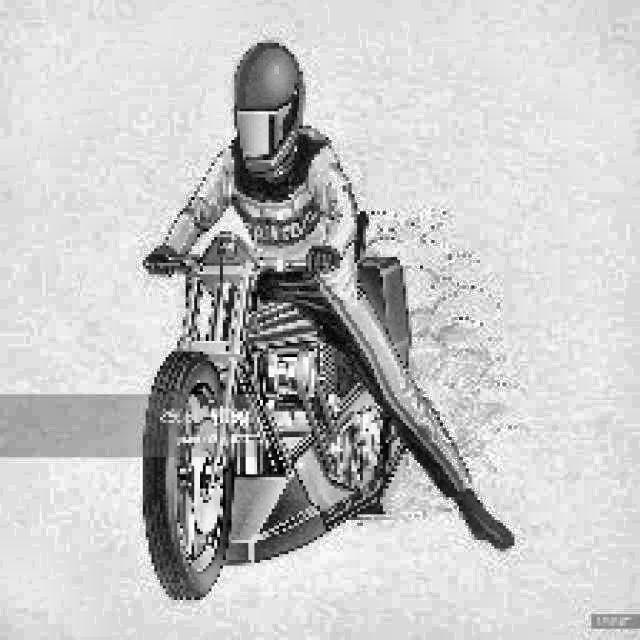motorcycle: (100, 229, 460, 605)
